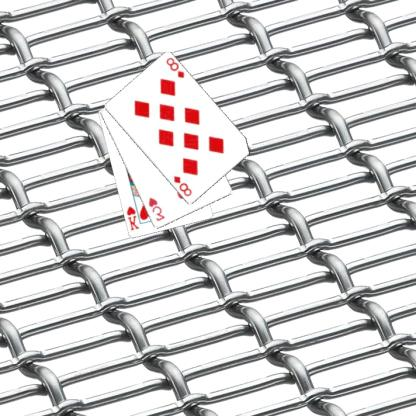3H: (148, 195, 168, 223)
8D: (173, 173, 195, 198), (165, 55, 187, 79)
KH: (126, 203, 142, 232)
